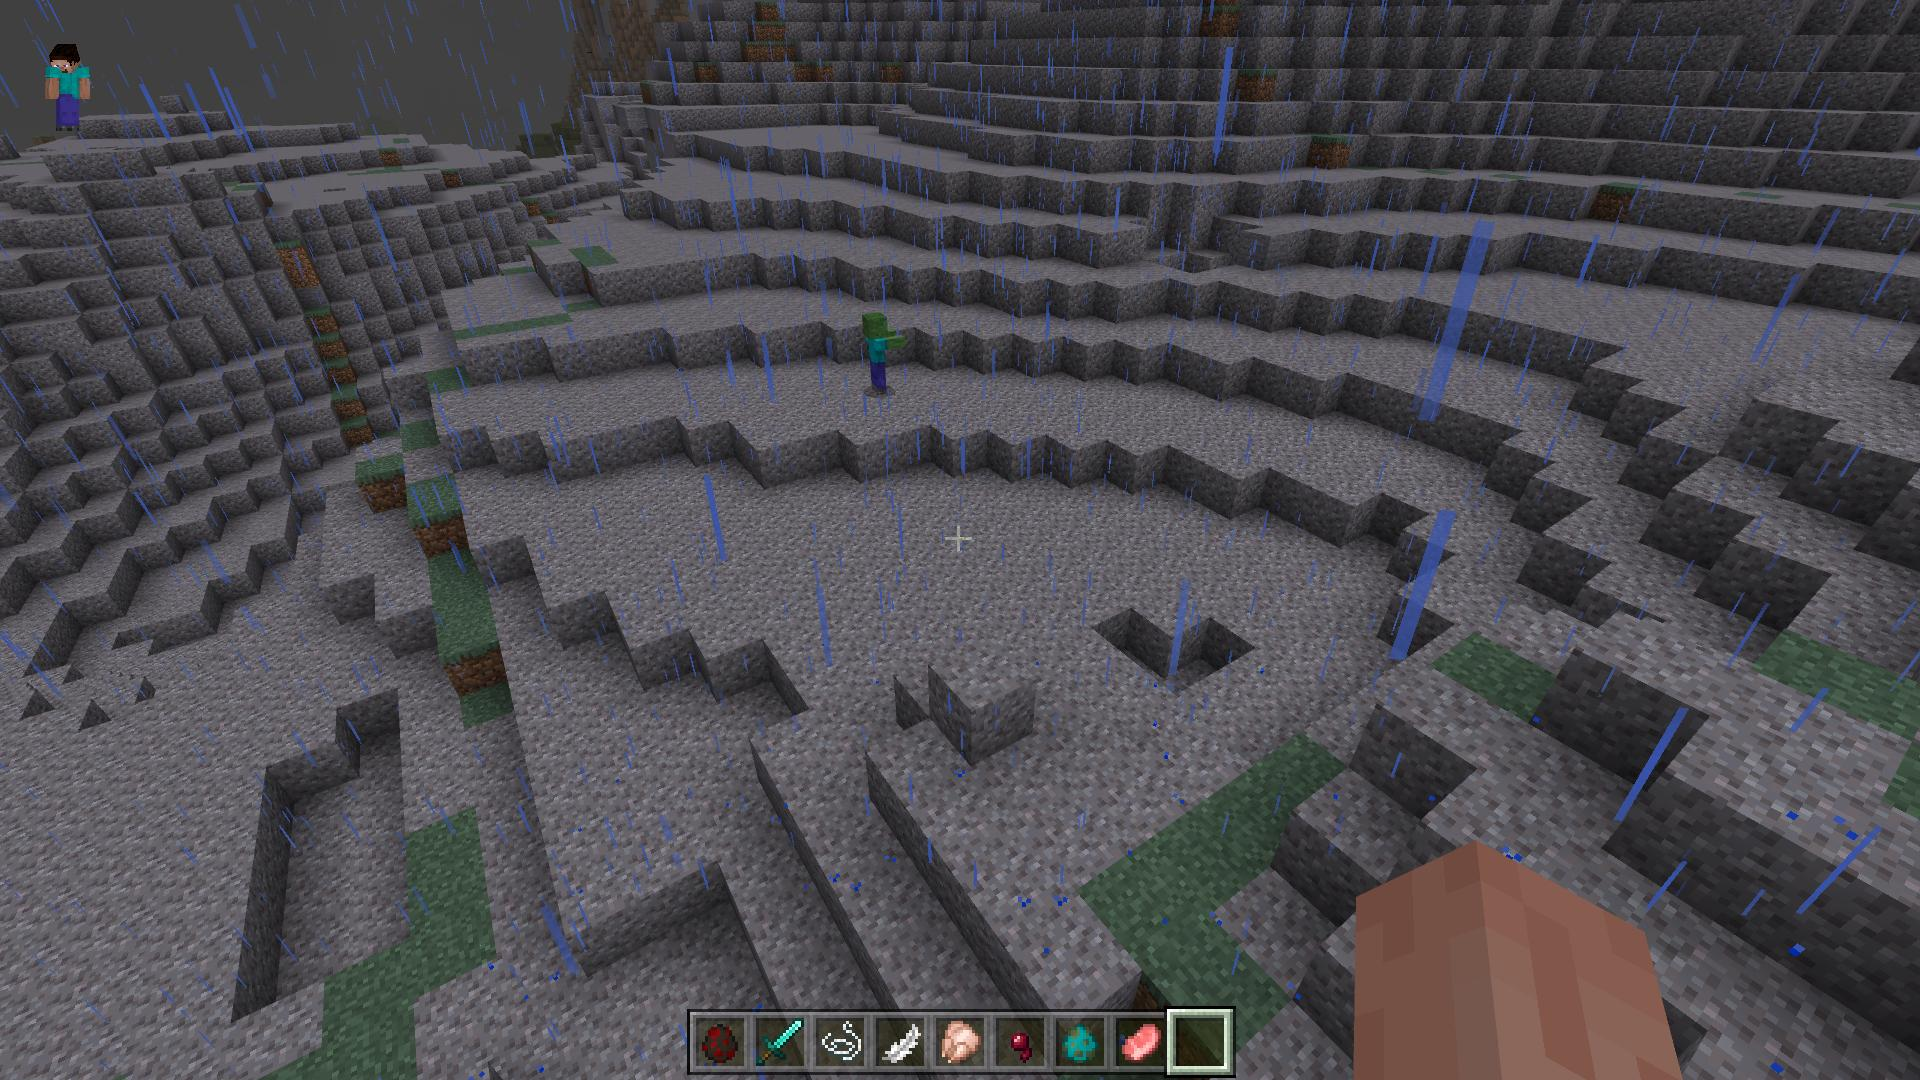zombie: (864, 311, 910, 392)
